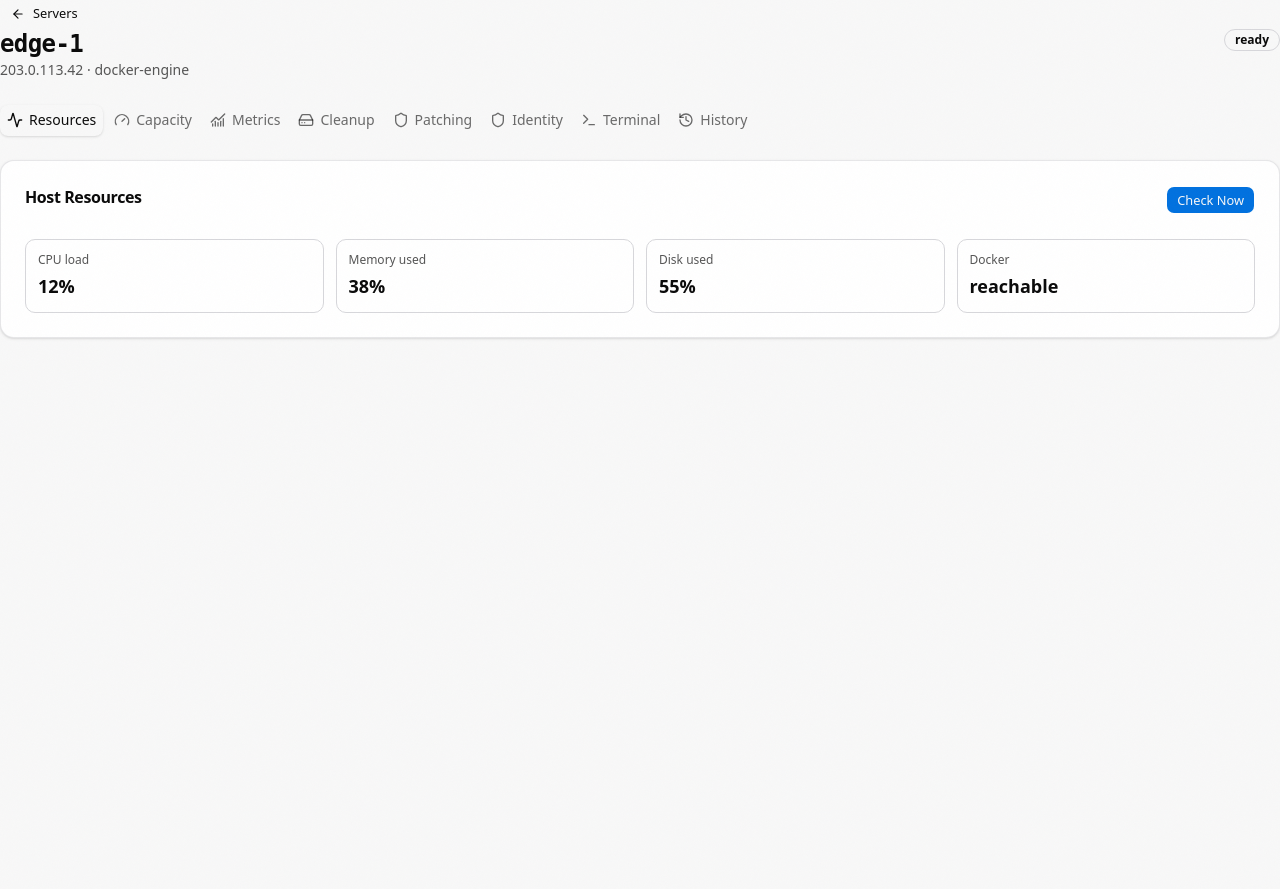
ServerDetailPage › opens the persistent metrics panel from the Metrics tab
Click the tab with test id "server-detail-metrics-tab-srv_1".
click(245, 120)  # box [203,104,288,136]
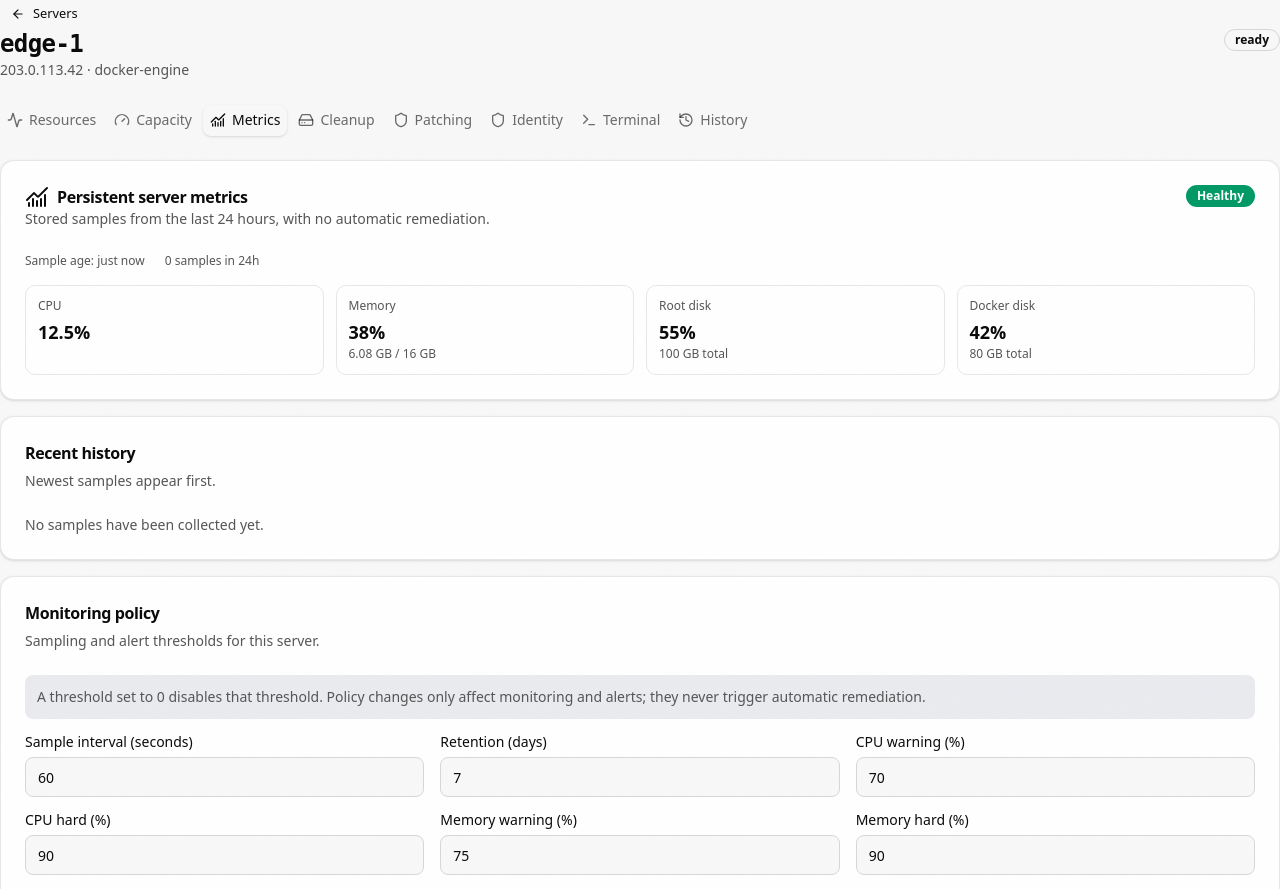
Check: the text with test id "server-metrics-status-srv_1" reads "Healthy", box [1197,187,1244,204]
